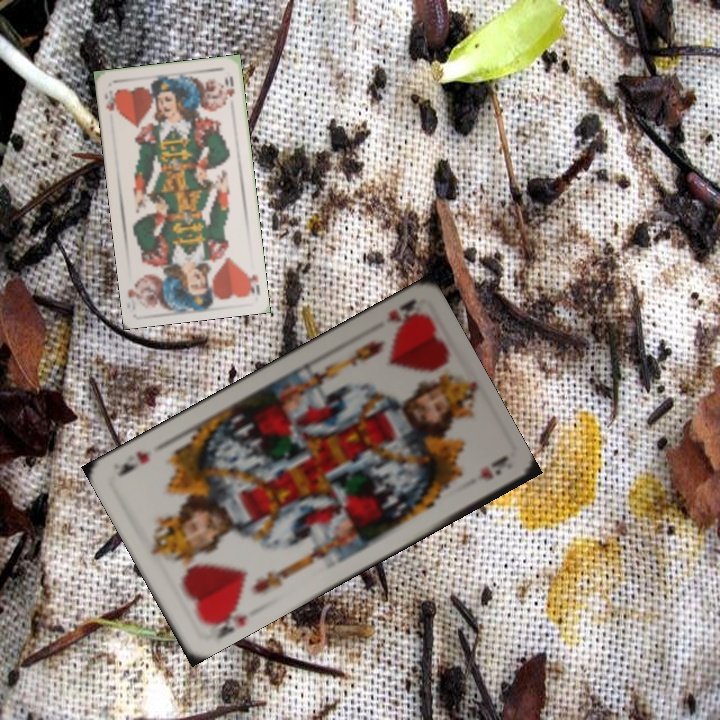HK: (200, 599, 250, 641), (381, 295, 424, 331)
HO: (241, 266, 263, 297), (101, 85, 121, 114)
